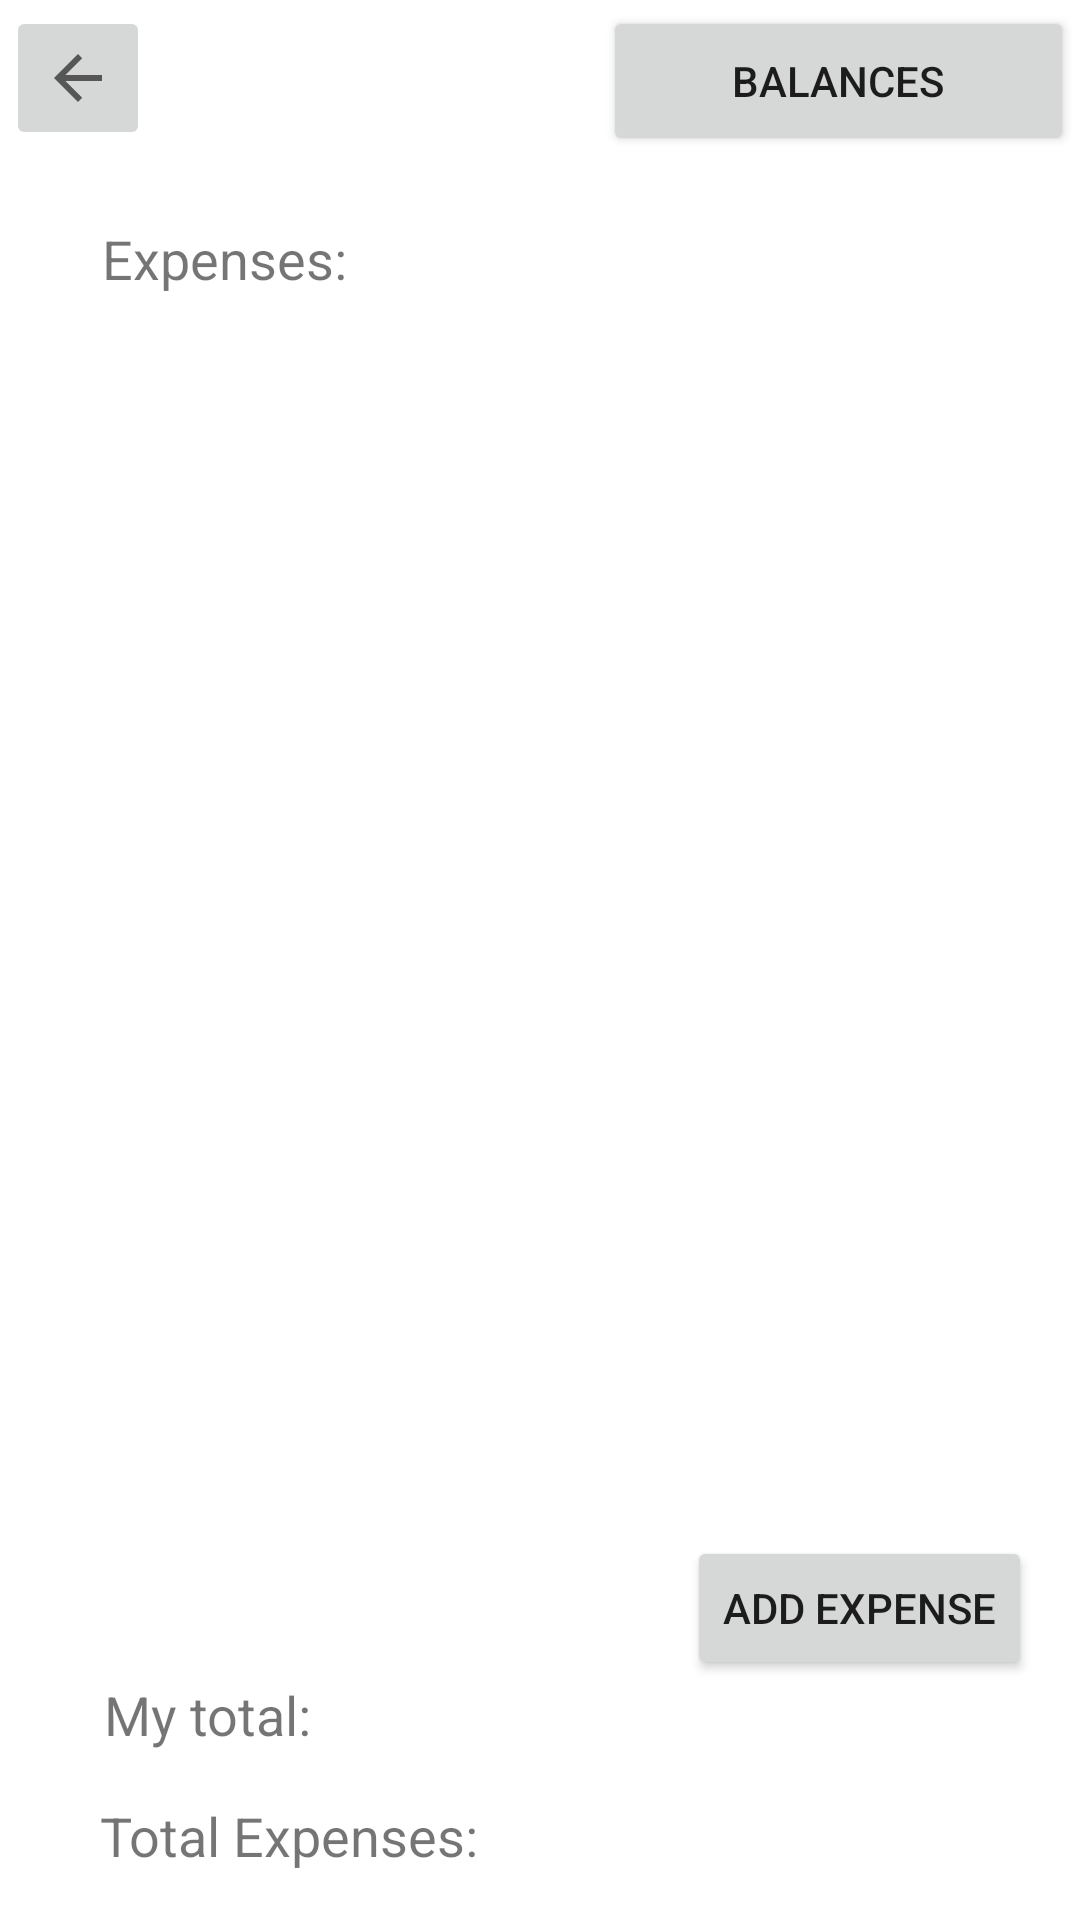

Screen size 1080px x 1920px. Icon name, then its box in pixels as (x1,y1,x2,y2):
A button to go back to the Home Screen: (18,24,138,132)
